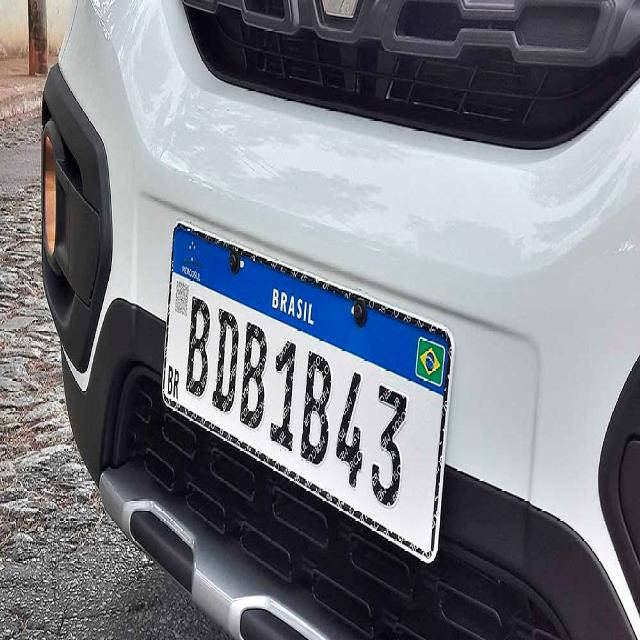placa: (162, 224, 452, 562)
